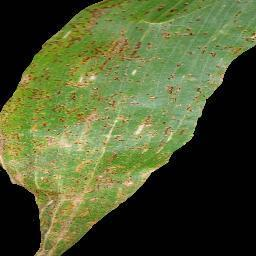Corn_Common_Rust: (66, 0, 137, 195), (0, 26, 66, 197), (138, 0, 193, 188), (30, 197, 133, 256), (194, 61, 232, 135), (193, 43, 231, 61), (232, 28, 256, 51), (193, 0, 207, 23), (232, 5, 245, 27), (232, 51, 244, 62), (200, 28, 213, 38)
